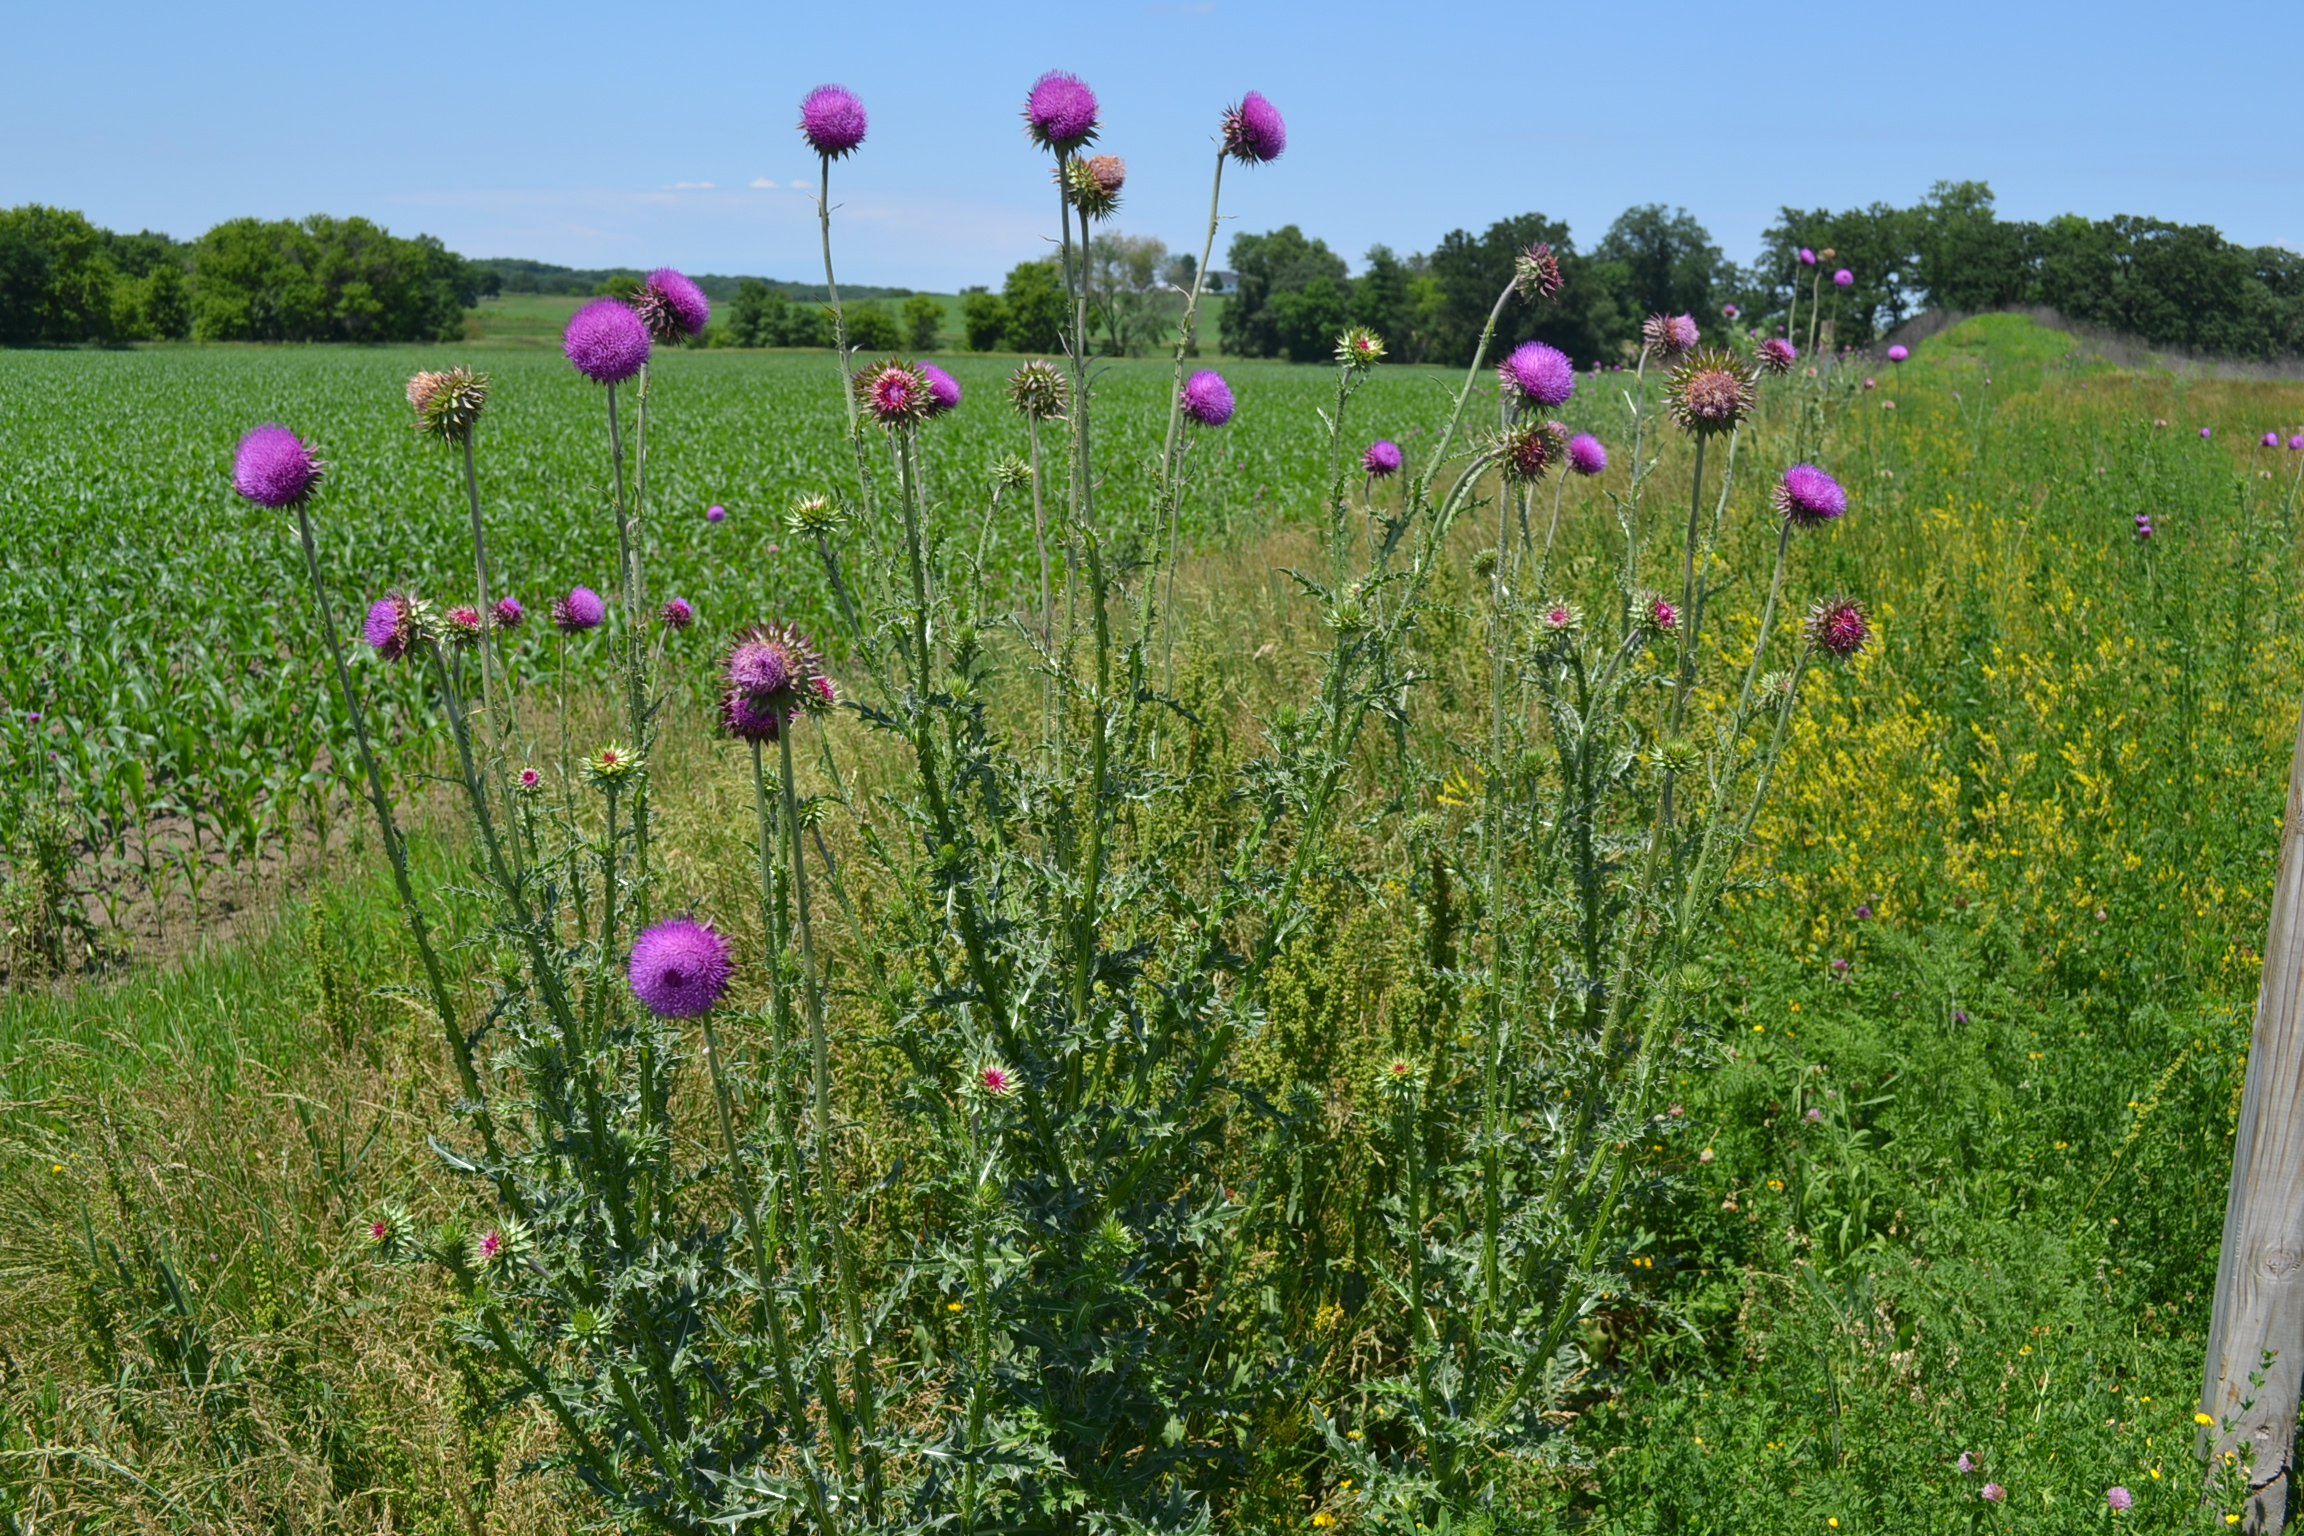thistle: (211, 411, 327, 531), (615, 914, 739, 1018), (615, 254, 730, 351), (545, 298, 651, 387), (1006, 72, 1113, 159), (1776, 439, 1851, 543), (787, 87, 888, 165), (715, 634, 825, 705), (1212, 87, 1289, 171), (358, 588, 439, 662), (1503, 339, 1579, 415), (1635, 298, 1701, 360), (1179, 367, 1241, 429), (1749, 327, 1810, 375), (554, 586, 607, 641), (1359, 435, 1409, 487), (1567, 430, 1611, 482), (658, 595, 694, 646)
